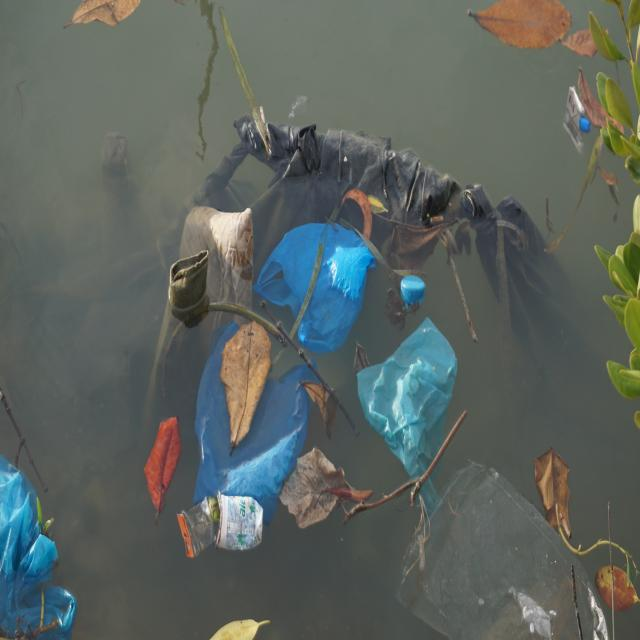Bungkus Minuman: (215, 491, 266, 555)
Kantong Plastik: (393, 458, 609, 640), (194, 319, 317, 521), (357, 317, 458, 508), (260, 222, 376, 353), (1, 458, 80, 640)
